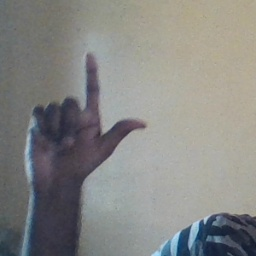L: (24, 51, 150, 179)
